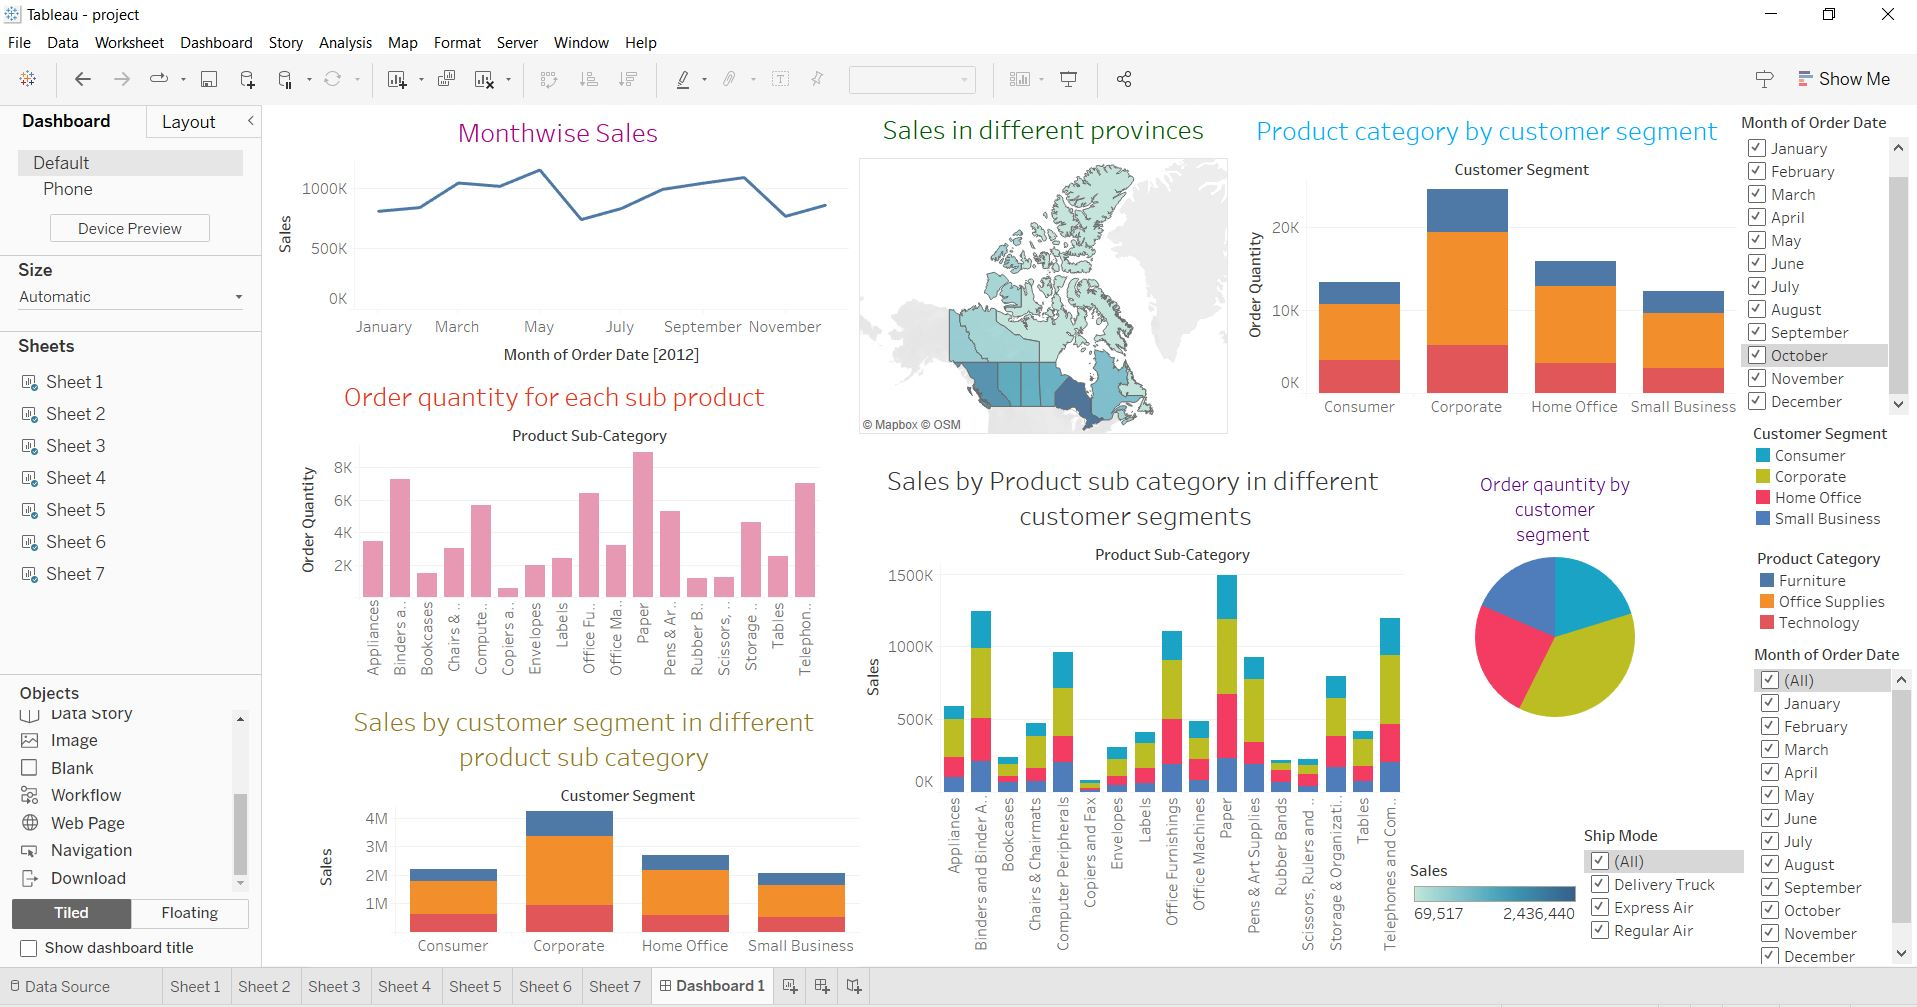

What the dashboard file says about the page in this screenshot:
{"tool":"tableau","page":{"name":"Dashboard 1","canvas":[1000,1000],"units":"permille","ordinal":0},"visuals":[{"type":"worksheet","title":"Sheet 3","mark":"Automatic","box":[360.3,3.5,222.7,378.6]},{"type":"worksheet","title":"Sheet 5","mark":"Automatic","rows":["Order Quantity"],"cols":["Customer Segment"],"box":[588.4,4.7,301.8,376.3]},{"type":"worksheet","title":"Sheet 1","mark":"Automatic","rows":["Sales"],"cols":["Order Date"],"box":[3,7,351.2,303.1]},{"type":"filter","title":"Sheet 1","param":"[federated.049qpfo1xmy2l91bkh1qx06rx82z].[mn:Order Date:ok]","box":[892.6,8.1,101.4,351.9]},{"type":"worksheet","title":"Sheet 2","mark":"Automatic","rows":["Order Quantity"],"cols":["Product Sub-Category"],"box":[16.9,313.6,319.2,350.8]},{"type":"legend","title":"Sheet 4","param":"[federated.049qpfo1xmy2l91bkh1qx06rx82z].[none:Customer Segment:nk]","box":[899.8,369.3,84.5,123.1]},{"type":"worksheet","title":"Sheet 6","mark":"Automatic","rows":["Sales"],"cols":["Product Sub-Category"],"box":[362.1,411.2,327.1,572.6]},{"type":"worksheet","title":"Sheet 4","mark":"Pie","box":[732.1,420.4,134.6,325.2]},{"type":"legend","title":"Sheet 5","param":"[federated.049qpfo1xmy2l91bkh1qx06rx82z].[none:Product Category:nk]","box":[902.2,514.5,84.5,98.7]},{"type":"filter","title":"Sheet 2","param":"[federated.049qpfo1xmy2l91bkh1qx06rx82z].[mn:Order Date:ok]","box":[900.4,626,95.4,371.7]},{"type":"filter","title":"Sheet 3","param":"[federated.049qpfo1xmy2l91bkh1qx06rx82z].[none:Ship Mode:nk]","box":[797.8,836.2,96.6,139.4]},{"type":"legend","title":"Sheet 3","param":"[federated.049qpfo1xmy2l91bkh1qx06rx82z].[sum:Sales:qk]","box":[692.8,876.9,102.6,90.6]}]}

Visuals, with their boxes on the dashboard's canvas, which has no fixed pixel size, in thousandths of its width and height (x1, y1, x2, y2). These are canvas units, not pixel positions in the 1917x1007 screenshot, which may show the page scaled, cropped or inside an application window:
"Sheet 3" worksheet: (left=360, top=4, right=583, bottom=382)
"Sheet 5" worksheet: (left=588, top=5, right=890, bottom=381)
"Sheet 1" worksheet: (left=3, top=7, right=354, bottom=310)
"Sheet 1" filter: (left=893, top=8, right=994, bottom=360)
"Sheet 2" worksheet: (left=17, top=314, right=336, bottom=664)
"Sheet 4" legend: (left=900, top=369, right=984, bottom=492)
"Sheet 6" worksheet: (left=362, top=411, right=689, bottom=984)
"Sheet 4" worksheet (Pie marks): (left=732, top=420, right=867, bottom=746)
"Sheet 5" legend: (left=902, top=514, right=987, bottom=613)
"Sheet 2" filter: (left=900, top=626, right=996, bottom=998)
"Sheet 3" filter: (left=798, top=836, right=894, bottom=976)
"Sheet 3" legend: (left=693, top=877, right=795, bottom=968)
